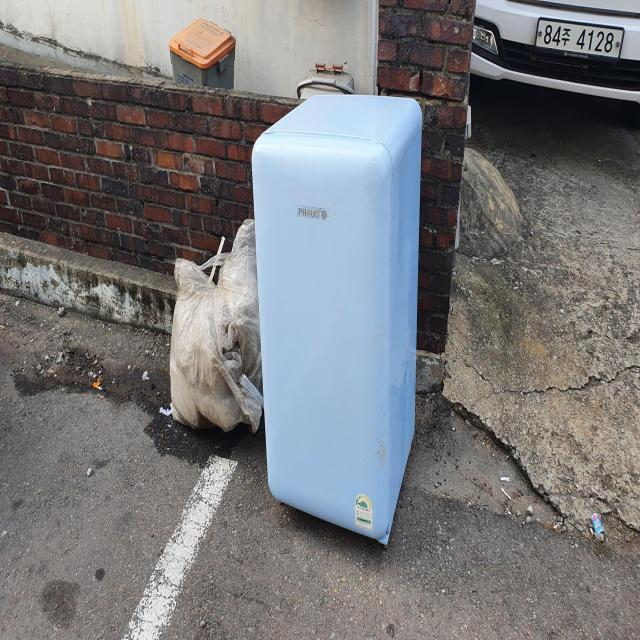refrigerator: (252, 87, 426, 555)
